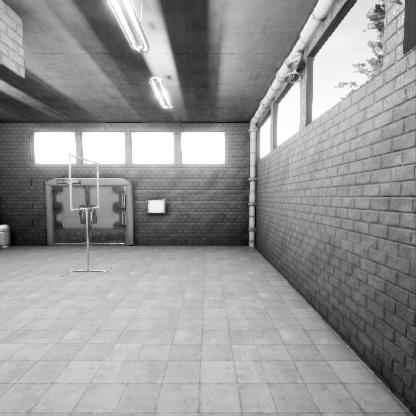gate: (68, 207, 99, 264)
